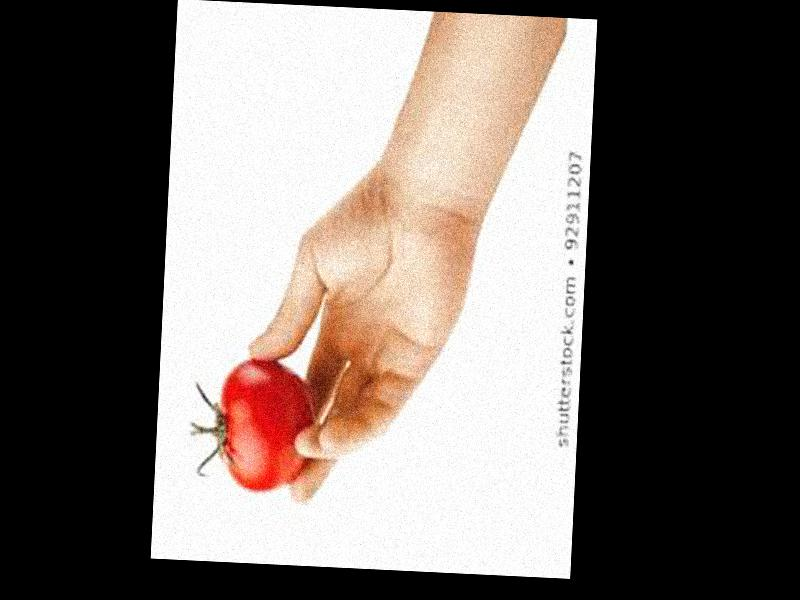Tomato: (215, 356, 319, 495)
